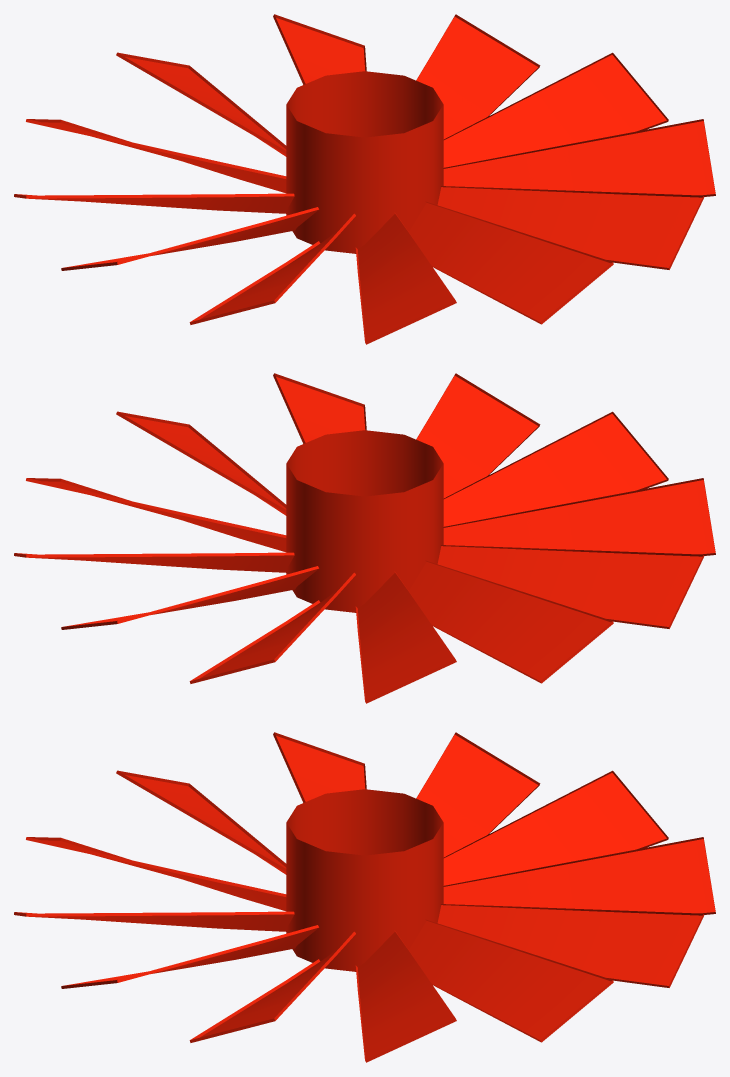
File: Space_Ship_1_Interior_fan_v1.FBX
3 renders of one model, top to bottom at view 1: azimuth 30°, elevation 25°; view 2: azimuth 150°, elevation 25°; view 3: azimuth 270°, elevation 25°, orthographic.
Visible parts, largest first — view 1: Object271; view 2: Object271; view 3: Object271.
Part boxes in pixels (left/top/right/bottom): Object271: left=14, top=14, right=715, bottom=344; Object271: left=14, top=373, right=715, bottom=703; Object271: left=14, top=732, right=715, bottom=1062.
Bounding box in the file's own units: 2.57 × 0.4738 × 2.57.
